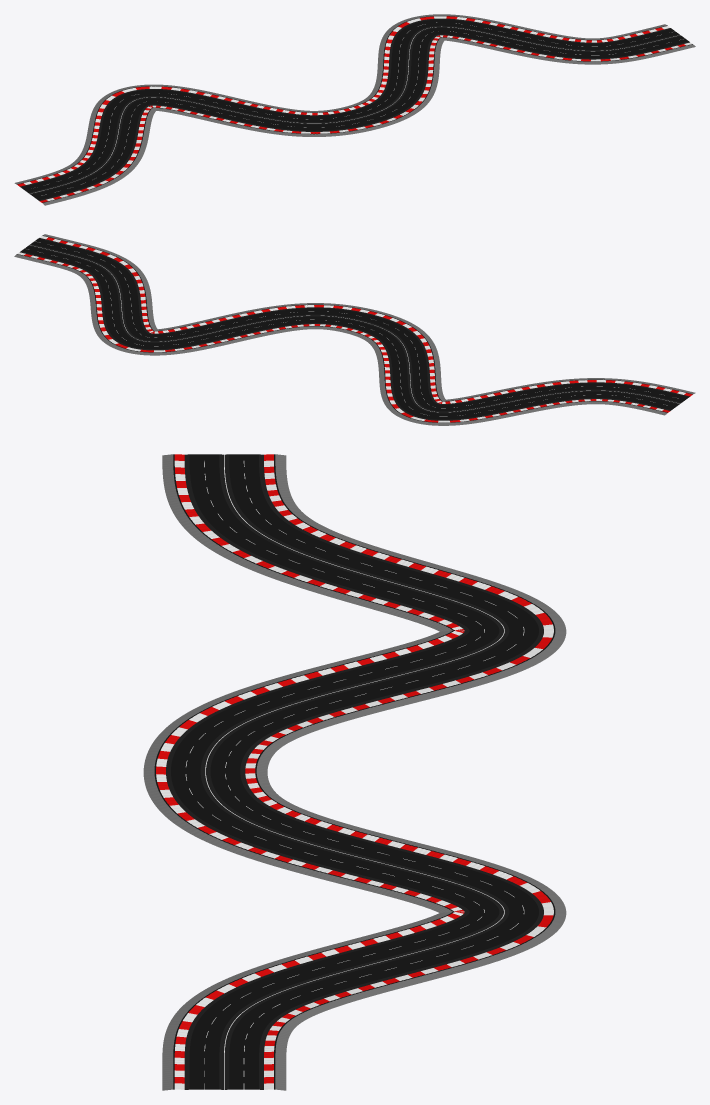
Rendered from S0.3c2-Wee1.glb.
3 views of the same model, one above another, from view 1: azimuth 30°, elevation 25°; view 2: azimuth 150°, elevation 25°; view 3: azimuth 270°, elevation 25° (orthographic). The views are drawn at different scales.
Visible parts, largest first — view 1: Grid; view 2: Grid; view 3: Grid.
Part boxes in pixels (box(x1,y1,x2,y2)): Grid: box(14, 14, 695, 205); Grid: box(14, 234, 695, 425); Grid: box(143, 454, 566, 1090).
Size of the model in its own units: 303 by 0.31 by 85.25.
